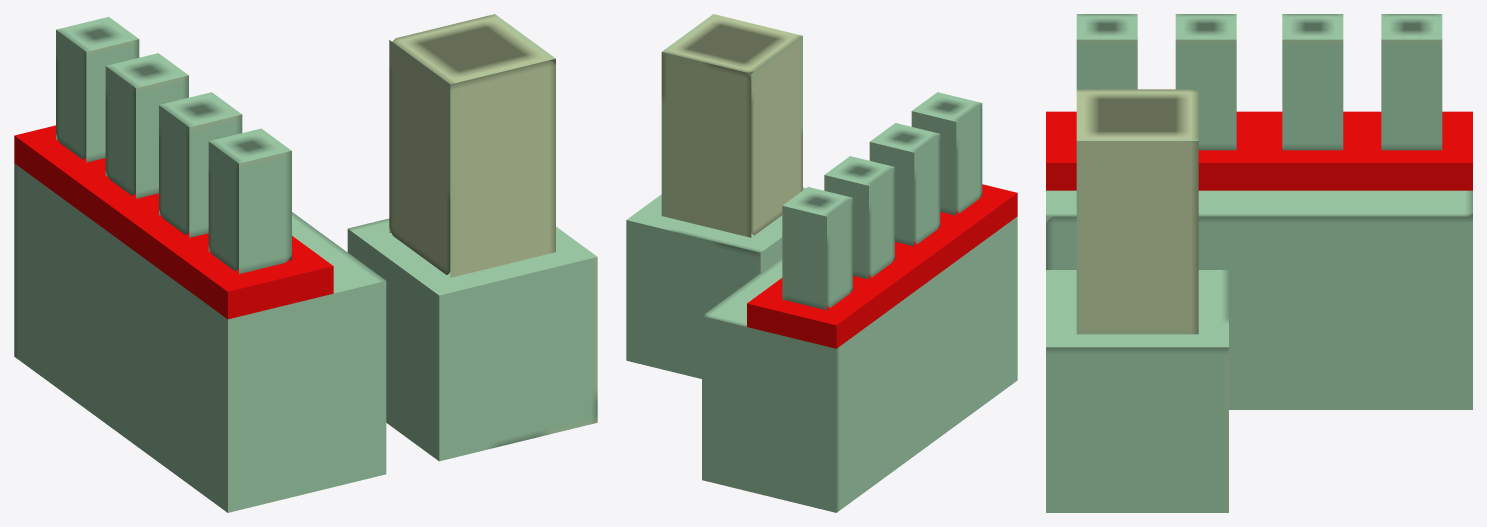
Rendered from factory.fbx.
The picture shows the model from 3 angles, left to right: view 1: azimuth 30°, elevation 25°; view 2: azimuth 150°, elevation 25°; view 3: azimuth 270°, elevation 25°; orthographic projection. The views are drawn at different scales.
Parts seen in each view (by area): view 1: mesh; view 2: mesh; view 3: mesh.
Boxes of the visible parts, left/top/right/bottom form: mesh: left=14, top=14, right=597, bottom=512; mesh: left=626, top=14, right=1017, bottom=512; mesh: left=1046, top=14, right=1472, bottom=512.
Bounding box in the file's own units: 87.5 × 81.25 × 87.5.
Materials: 2 (2 with a texture image).
